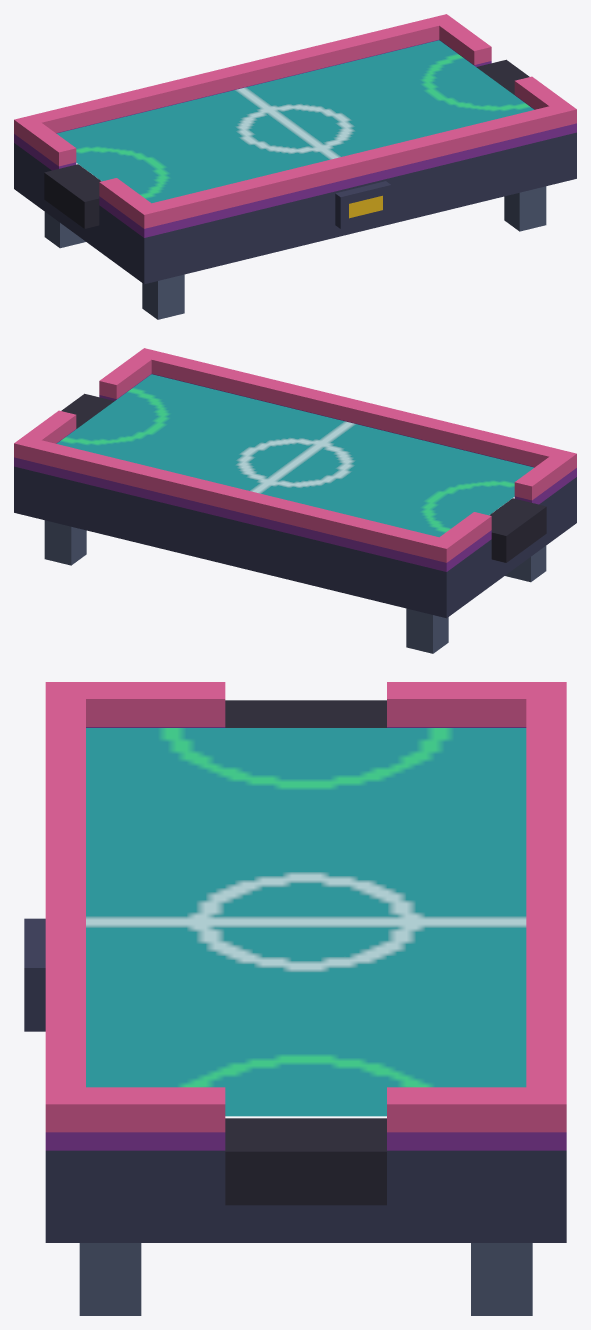
File: table.glb
The picture shows the model from 3 angles, top to bottom: view 1: azimuth 30°, elevation 25°; view 2: azimuth 150°, elevation 25°; view 3: azimuth 270°, elevation 25°; orthographic projection. The views are drawn at different scales.
Visible parts, largest first — view 1: Table; view 2: Table; view 3: Table.
Part boxes in pixels (x1,y1,x2,y2): Table: (14, 14, 576, 319); Table: (14, 348, 576, 653); Table: (24, 682, 566, 1315).
Bounding box in the file's own units: 5.02 × 1.21 × 2.55.
7 materials, 1 textured.
